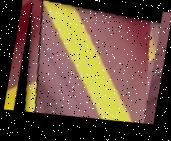scratch: (10, 0, 166, 138)
